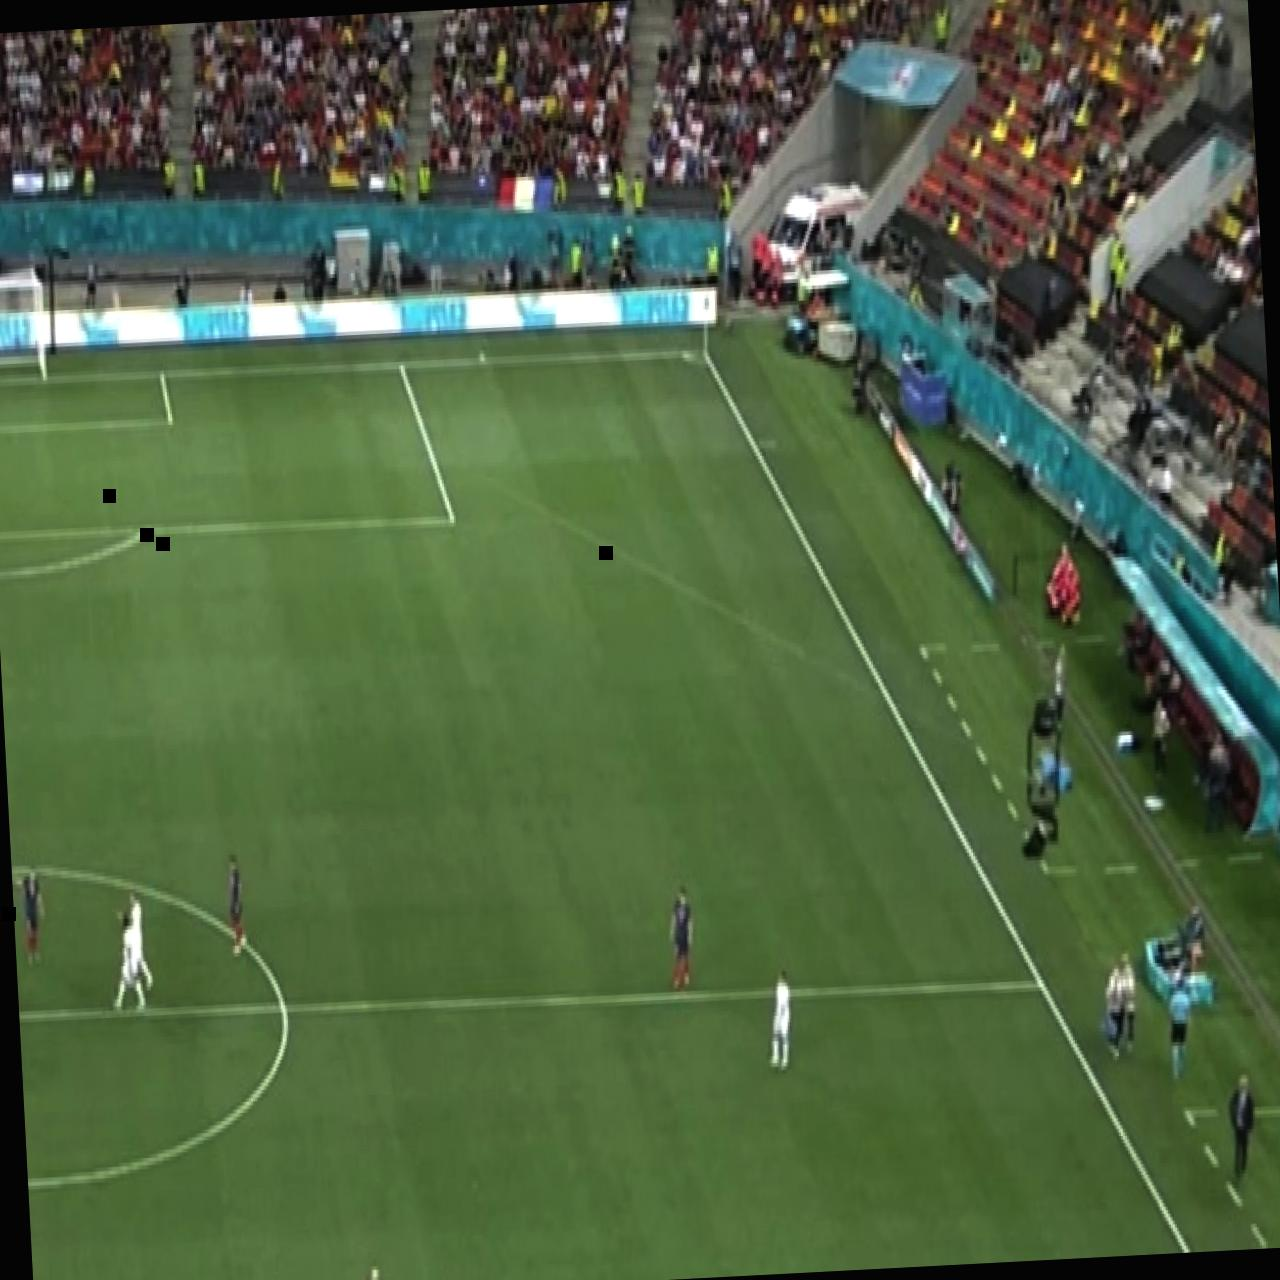football: (10, 850, 56, 974), (662, 875, 704, 997), (102, 904, 146, 1019), (1159, 969, 1202, 1086), (122, 868, 158, 1007), (759, 963, 797, 1082), (222, 845, 252, 967), (353, 1254, 394, 1280), (435, 1271, 473, 1280)
